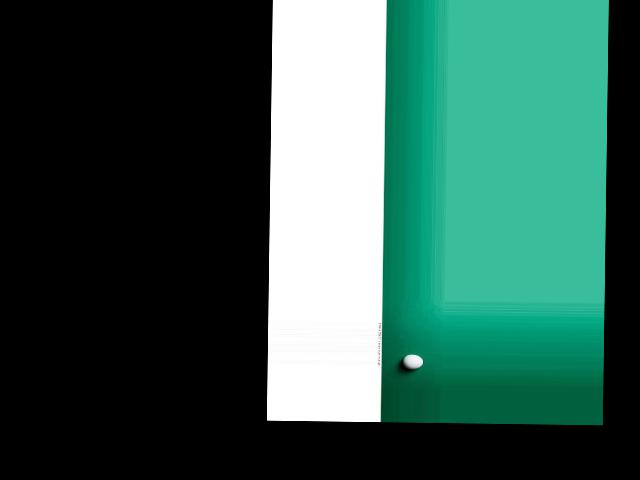egg: (402, 353, 422, 368)
